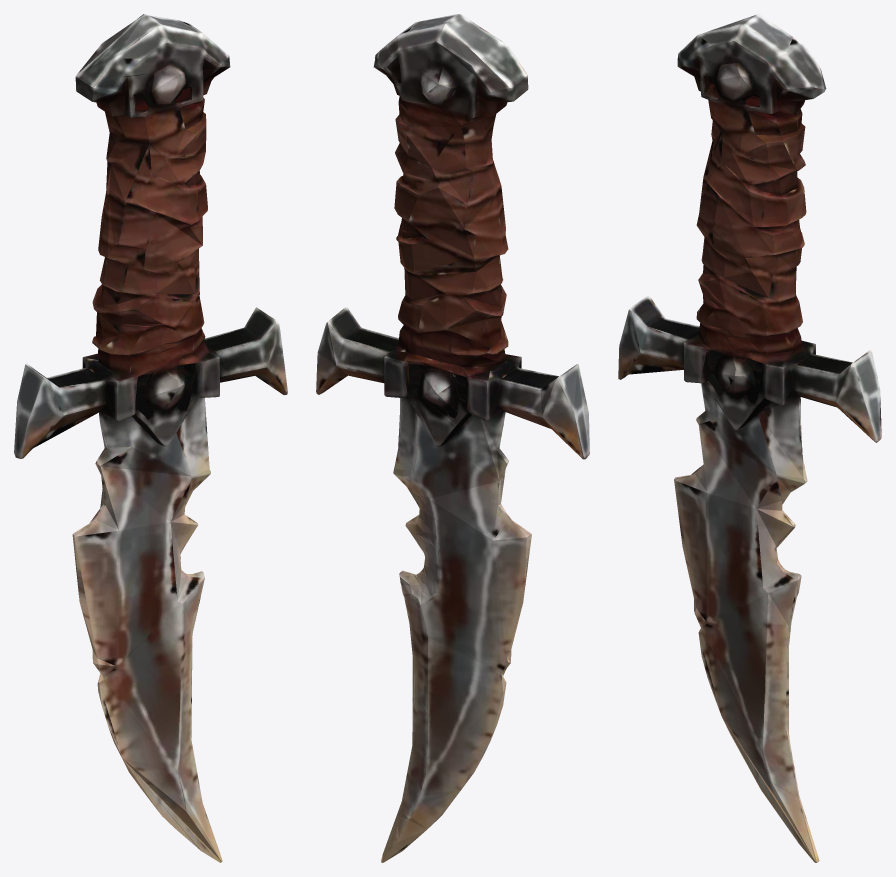
File: daggerWithMesh_00001_.glb
3 renders of one model, left to right at view 1: azimuth 30°, elevation 25°; view 2: azimuth 150°, elevation 25°; view 3: azimuth 330°, elevation 25°, orthographic. The views are drawn at different scales.
Visible parts, largest first — view 1: geometry_0; view 2: geometry_0; view 3: geometry_0.
Part boxes in pixels (x1,y1,x2,y2): geometry_0: [14, 14, 287, 862]; geometry_0: [316, 14, 589, 862]; geometry_0: [618, 14, 881, 862].
Bounding box in the file's own units: 0.327 × 0.9994 × 0.0918.
1 material, 1 textured.
